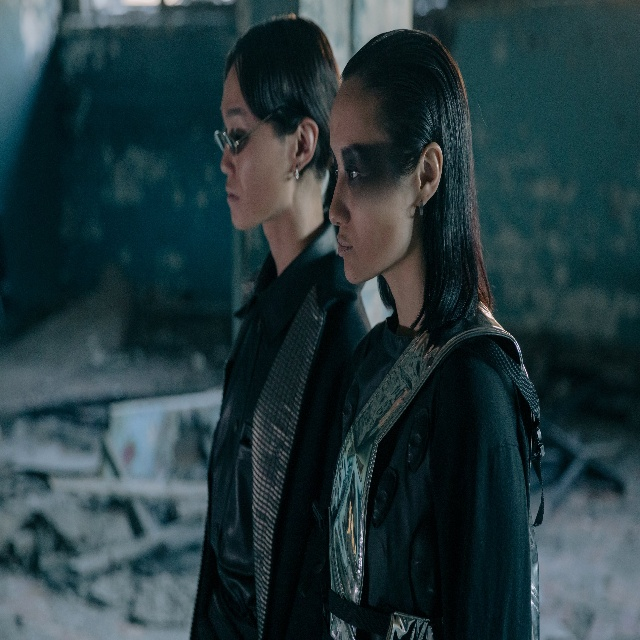Gafas: (211, 123, 241, 155)
